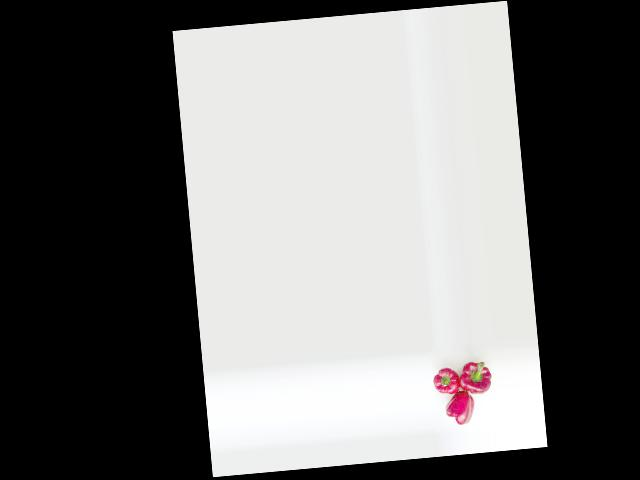bell_pepper: (438, 388, 479, 430)
